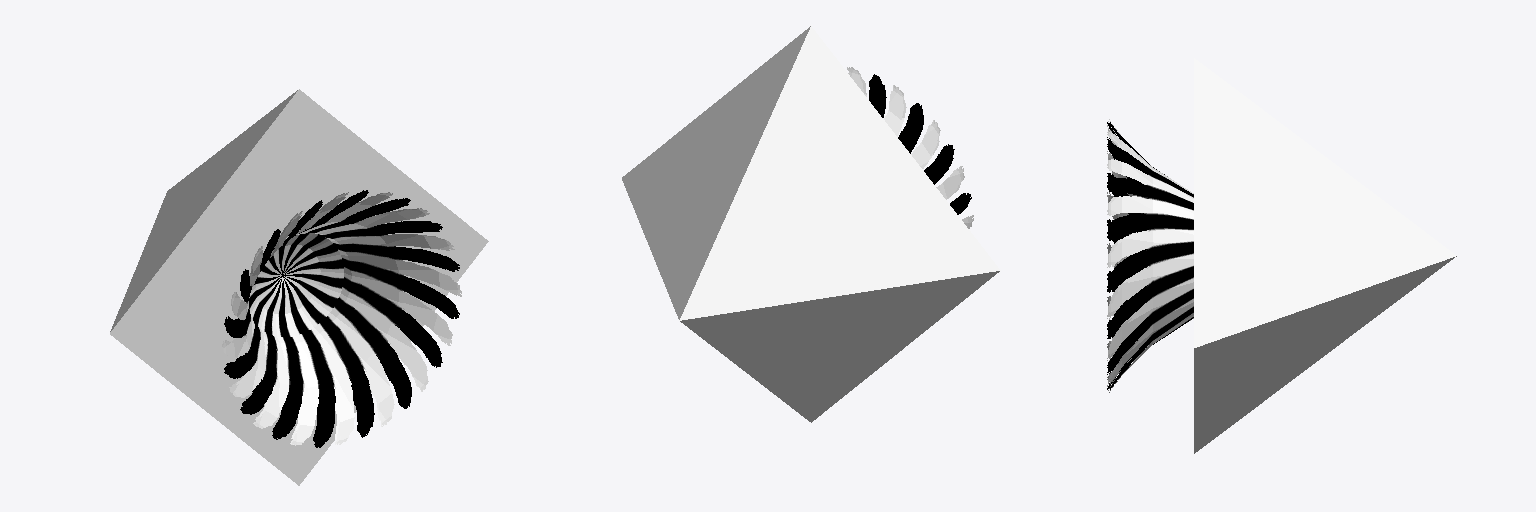
3 views of the same model, side by side, from view 1: azimuth 30°, elevation 25°; view 2: azimuth 150°, elevation 25°; view 3: azimuth 270°, elevation 25° (orthographic).
Visible parts, largest first — view 1: Mask, Spiral1, Spiral2, Back, Spiral3; view 2: Mask, Back, Spiral1; view 3: Mask, Back, Spiral1.
Boxes of the visible parts, x1=… form: Mask: x1=110, y1=89, x2=488, y2=485; Spiral1: x1=223, y1=191, x2=461, y2=447; Spiral2: x1=243, y1=218, x2=409, y2=396; Back: x1=222, y1=190, x2=460, y2=446; Spiral3: x1=248, y1=229, x2=367, y2=358; Mask: x1=622, y1=26, x2=1000, y2=422; Back: x1=847, y1=67, x2=972, y2=228; Spiral1: x1=849, y1=67, x2=973, y2=228; Mask: x1=1194, y1=58, x2=1456, y2=453; Back: x1=1109, y1=119, x2=1193, y2=392; Spiral1: x1=1107, y1=121, x2=1148, y2=390.
Bounding box in the file's own units: 618 × 618 × 500.
Materials: 2 (1 with a texture image).